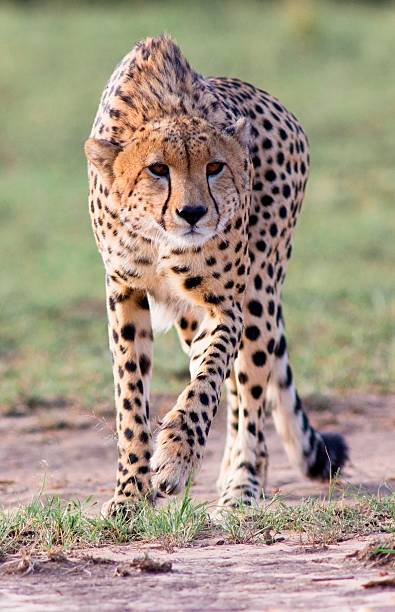cheetah: (55, 92, 285, 284)
